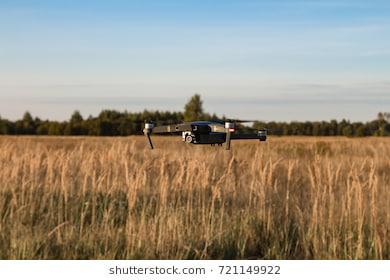drone: (134, 106, 283, 161)
